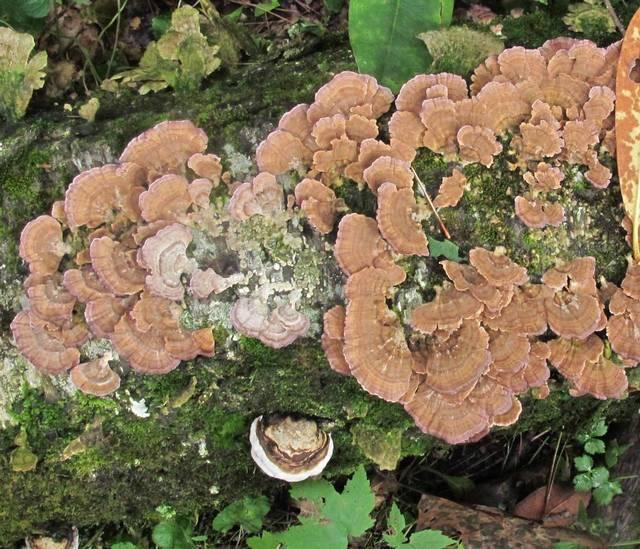Non-edible Mushroom: (5, 13, 640, 431), (247, 410, 334, 483)
